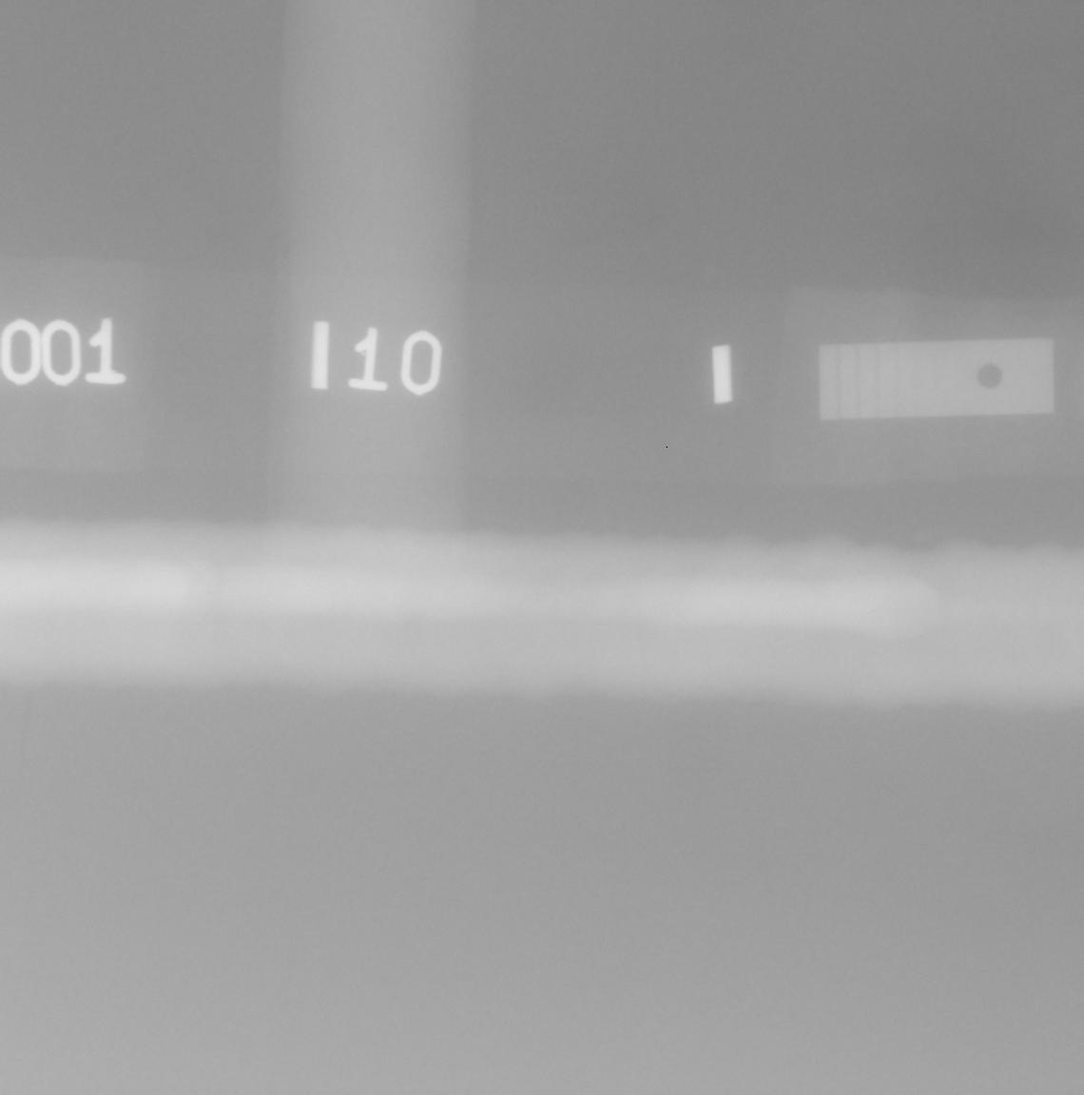Reference Standard 1: (818, 339, 1054, 419)
